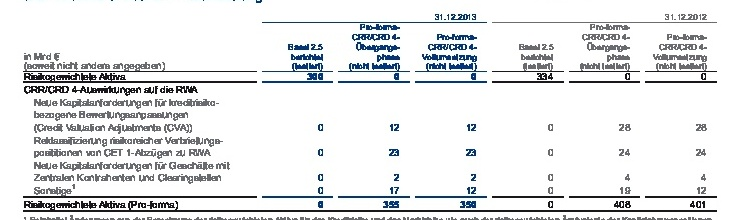table: (0, 0, 729, 220)
